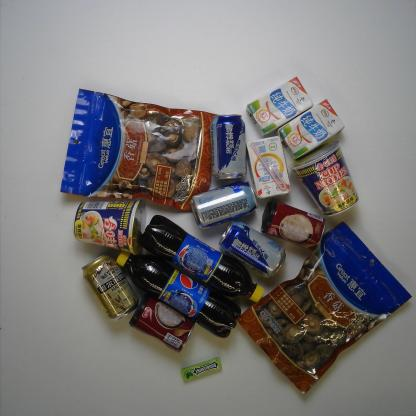Alcohol: (218, 217, 288, 283), (80, 250, 142, 323), (188, 180, 260, 234), (207, 108, 247, 185)
Canned Food: (125, 291, 202, 354), (258, 197, 329, 253)
Dried Food: (237, 219, 412, 399), (57, 87, 224, 222)
Drink: (114, 244, 244, 340), (137, 214, 265, 306)
Gum: (179, 352, 225, 385)
Instant Noodles: (286, 136, 360, 220), (71, 192, 150, 259)
Milk: (244, 73, 320, 141), (276, 97, 349, 163), (244, 132, 292, 205)
